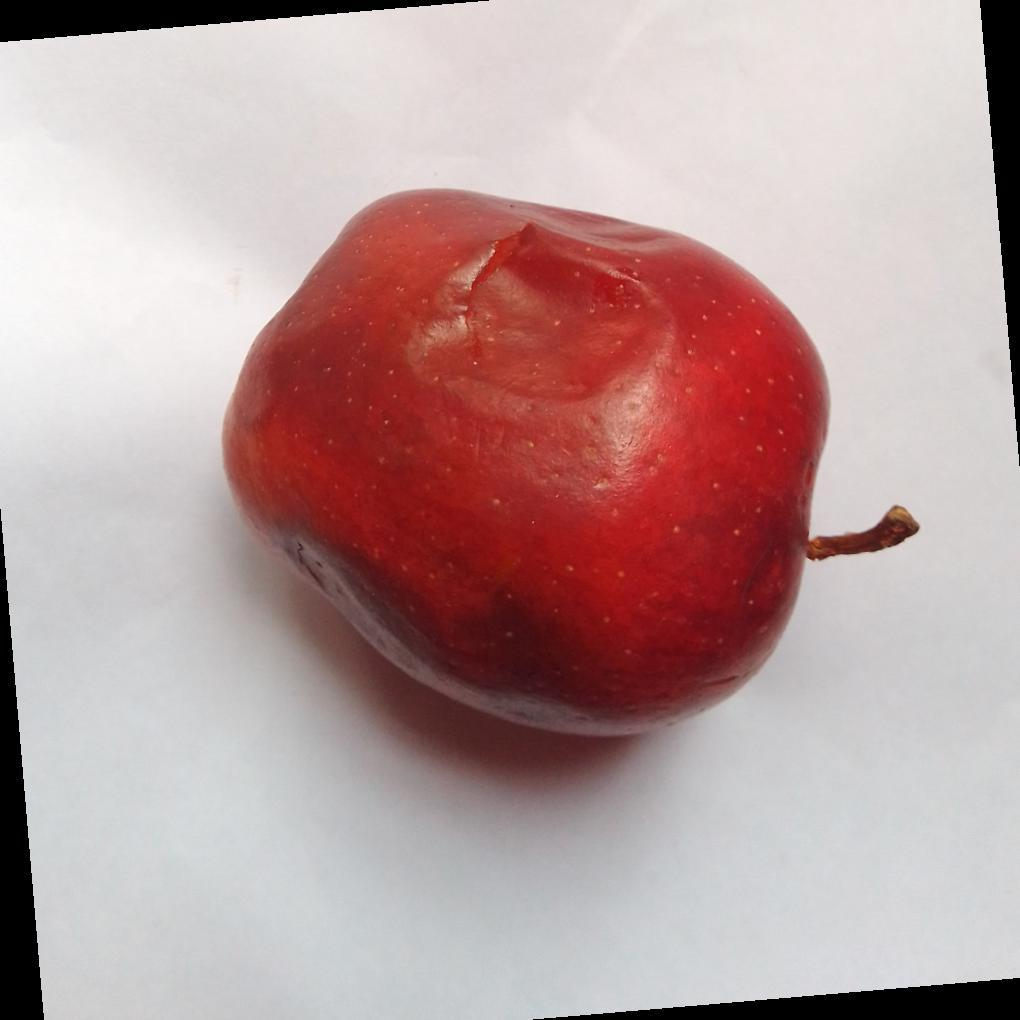FreshOrange: (219, 188, 913, 743)
